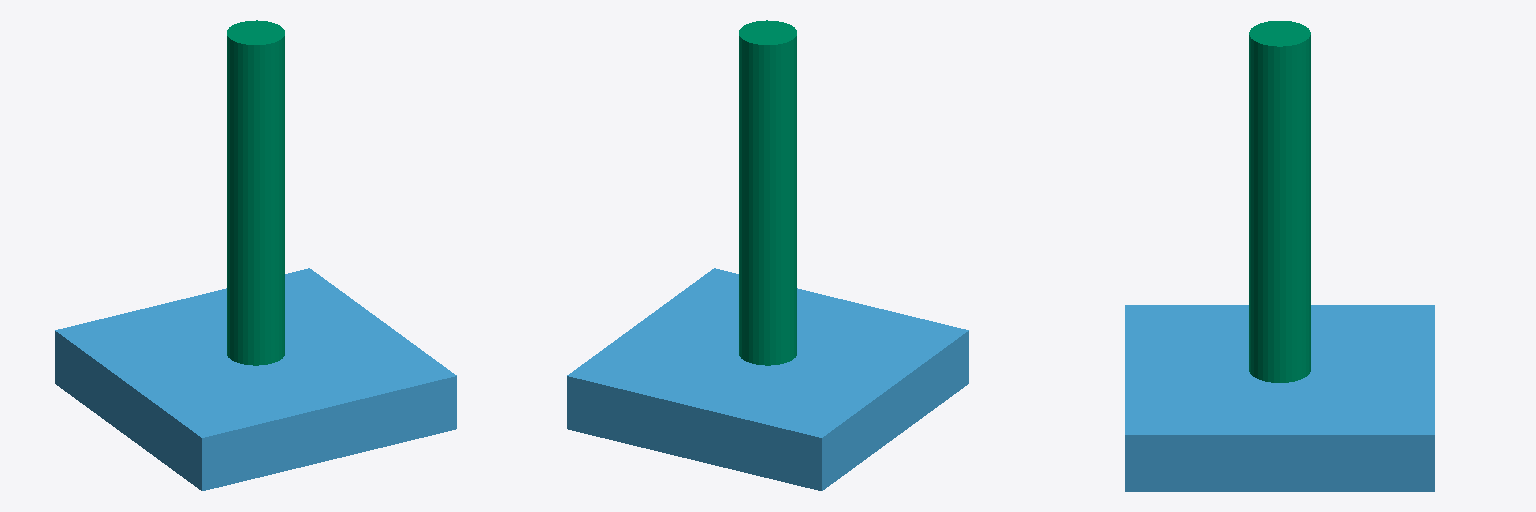
robot.urdf — 3DOF_arm:
<?xml version="1.0"?>
<robot  name="3DOF_arm">

<!-- Used for fixing robot to Gazebo 'base_link' -->
  <link name="world"/>

  <joint name="glue_robot_to_world" type="fixed">
    <parent link="world"/>
    <child link="base"/>
  </joint>

 <!-- Base Link -->
  <link name="base">
    <collision>
      <origin xyz="0 0 0.5" rpy="0 0 0"/>
      <geometry>
       <box size="5 5 0.5"/>
      </geometry>
    </collision>

    <visual>
      <origin xyz="0 0 0.5" rpy="0 0 0"/>
      <geometry>
        <box size="5 5 1"/>
      </geometry>
    </visual>

    <inertial>
      <origin xyz="0 0 0.5" rpy="0 0 0"/>
      <mass value="1"/>
      <inertia
        ixx="1.0" ixy="0.0" ixz="0.0"
        iyy="1.0" iyz="0.0"
        izz="1.0"/>
    </inertial>
  </link>

<!-- Moveable Link -->
  <link name="upper_arm">
    <collision>
      <origin xyz="0 0 0.5" rpy="0 0 0"/>
      <geometry>
        <cylinder length="7" radius="0.5"/>
        <!--box size="0.15 0.15 0.8"-->
      </geometry>
    </collision>

    <visual>
      <origin xyz="0 0 0.5" rpy="0 0 0"/>
      <geometry>
        <cylinder length="7" radius="0.5"/>
      </geometry>
    </visual>

    <inertial>
      <origin xyz="0 0 0.5" rpy="0 0 0"/>
      <mass value="1"/>
      <inertia
        ixx="0.1" ixy="0.0" ixz="0.0"
        iyy="0.1" iyz="0.0"
        izz="0.005"/>
    </inertial>
  </link>

  <joint name="shoulder" type="continuous">
    <parent link="base"/>
    <child link="upper_arm"/>
    <origin xyz="0 0 3" rpy="0 0 0"/>
    <axis xyz="0 1 0"/>
  </joint>
</robot>

--- Render facts (derived) ---
3 views of the same robot in one strip: view 1: azimuth 30°, elevation 25°; view 2: azimuth 150°, elevation 25°; view 3: azimuth 270°, elevation 25° (orthographic).
Model 3DOF_arm with 3 links and 2 joints (1 continuous, 1 fixed), rooted at world, posed all joints at 0.
Links seen in each view (by area): view 1: base, upper_arm; view 2: base, upper_arm; view 3: base, upper_arm.
Link boxes in pixels (x1,y1,x2,y2): base: [55, 268, 456, 490]; upper_arm: [227, 20, 284, 365]; base: [567, 268, 968, 490]; upper_arm: [739, 20, 796, 365]; base: [1125, 305, 1434, 491]; upper_arm: [1249, 21, 1310, 382].
Bounding box of the posed robot: 5 × 5 × 7 m (x, y, z).
Geometry: primitives only (box / cylinder / sphere), no mesh files.